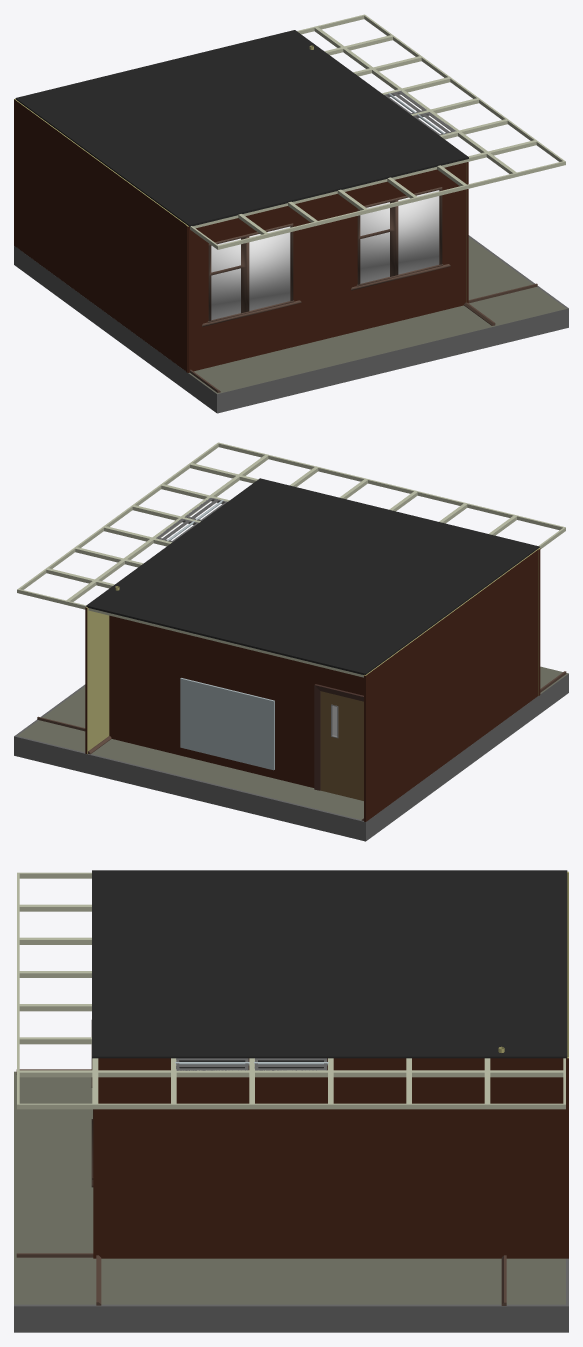
Rendered from Classroom.glb.
3 views of the same model, one above another, from view 1: azimuth 30°, elevation 25°; view 2: azimuth 150°, elevation 25°; view 3: azimuth 270°, elevation 25° (orthographic). The views are drawn at different scales.
Visible parts, largest first — view 1: Cube.000_Cube.003, Cube.015_Cube.016, Cube.018, Cube.005_Cube.008, Cube.003_Cube.006, Cube.004_Cube.007, Cube.002_Cube.004; view 2: Cube.000_Cube.003, Cube.015_Cube.016, Cube.018, Cube.001; view 3: Cube.000_Cube.003, Cube.015_Cube.016, Cube.018.
Boxes of the visible parts, x1,y1,x2,y2 form: Cube.000_Cube.003: (14, 30, 566, 393); Cube.015_Cube.016: (14, 235, 568, 413); Cube.018: (190, 14, 565, 249); Cube.005_Cube.008: (211, 226, 290, 320); Cube.003_Cube.006: (360, 190, 439, 283); Cube.004_Cube.007: (202, 223, 301, 326); Cube.002_Cube.004: (351, 187, 450, 290); Cube.000_Cube.003: (17, 478, 568, 821); Cube.015_Cube.016: (14, 674, 568, 841); Cube.018: (17, 442, 565, 677); Cube.001: (180, 678, 274, 770); Cube.000_Cube.003: (14, 870, 568, 1305); Cube.015_Cube.016: (14, 1258, 568, 1332); Cube.018: (17, 872, 565, 1109).
Bounding box in the file's own units: 35.25 × 16.25 × 35.2.
Materials: 3 (1 with a texture image).
